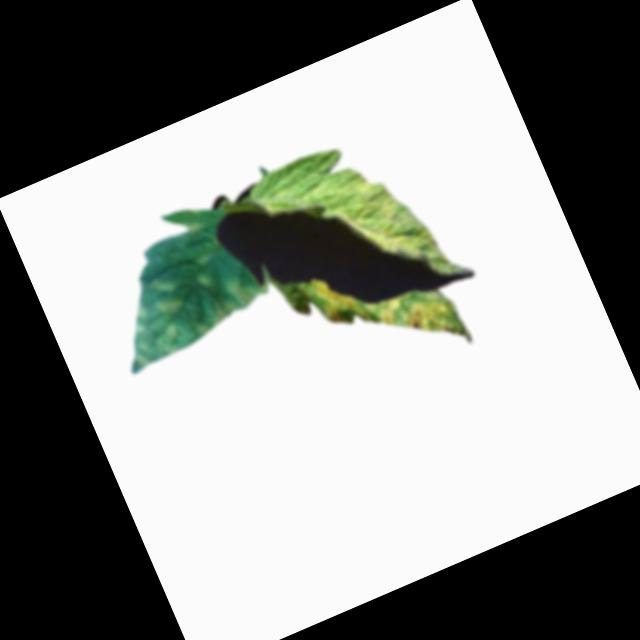Leaf_Mold: (101, 242, 264, 373), (305, 266, 374, 341), (397, 289, 462, 352), (376, 297, 406, 331)
